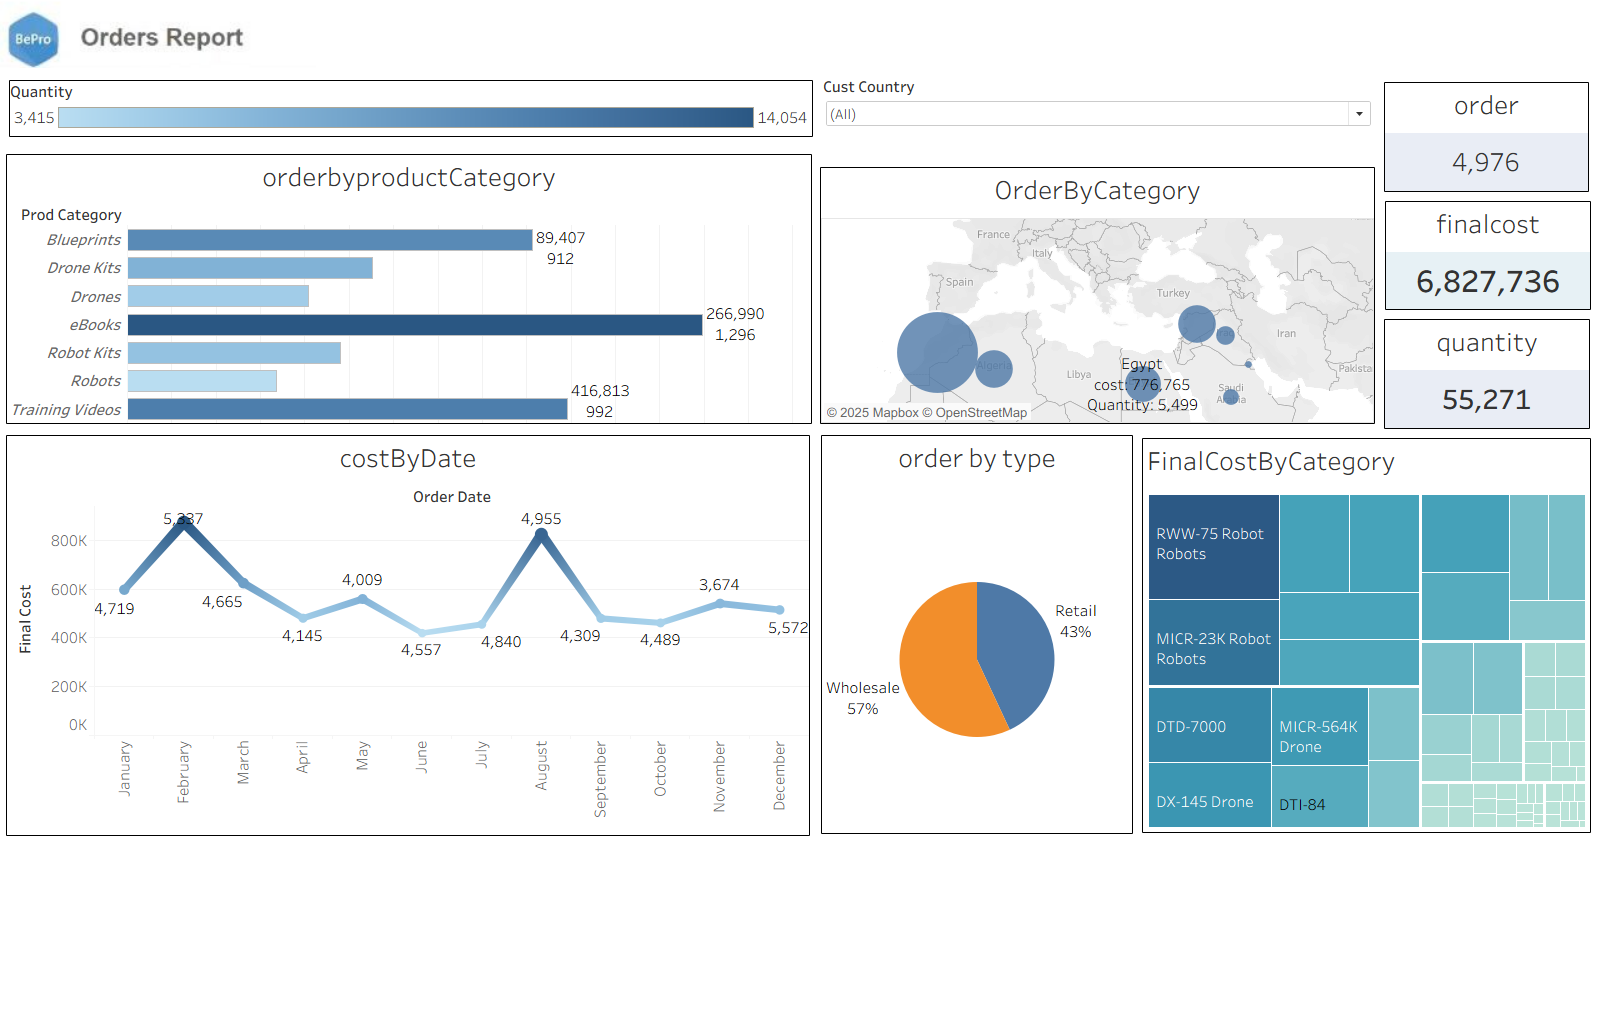

Layout of this report page (visuals, bound fields, positions):
{"tool":"tableau","page":{"name":"Dashboard 1","canvas":[1000,1000],"units":"permille","ordinal":0},"visuals":[{"type":"filter","title":"OrderByCategory","param":"[federated.1k7l23c0m9x0sa1dm8t0y1fiswnw].[none:CustCountry:nk]","box":[522,7.4,332.5,102.3]},{"type":"legend","title":"orderbyproductCategory","param":"[federated.1k7l23c0m9x0sa1dm8t0y1fiswnw].[sum:Quantity:qk]","box":[30.8,12.3,485.2,70.3]},{"type":"worksheet","title":"order","mark":"Automatic","box":[863.6,14.8,120.7,135.6]},{"type":"worksheet","title":"orderbyproductCategory","mark":"Automatic","rows":["ProdCategory"],"cols":["Sheet1_D10ECC9437FA4937B5DA6B068F532ACB"],"box":[29,103.6,486.4,332.9]},{"type":"worksheet","title":"OrderByCategory","mark":"Automatic","box":[520.2,119.6,334.9,316.9]},{"type":"worksheet","title":"finalcost","mark":"Automatic","box":[861.2,161.5,124.3,134.4]},{"type":"worksheet","title":"quantity","mark":"Automatic","box":[860.6,307,124.3,135.6]},{"type":"worksheet","title":"costByDate","mark":"Automatic","rows":["Calculation_662592138302869504"],"cols":["OrderDate"],"box":[29,450.1,485.2,494.4]},{"type":"worksheet","title":"order by type","mark":"Pie","box":[520.8,450.1,188.3,492]},{"type":"worksheet","title":"FinalCostByCategory","mark":"Automatic","box":[714.5,453.8,271,487.1]}]}

Visuals, with their boxes on the dashboard's canvas, which has no fixed pixel size, in thousandths of its width and height (x1, y1, x2, y2). These are canvas units, not pixel positions in the 1601x1034 screenshot, which may show the page scaled, cropped or inside an application window:
"OrderByCategory" filter: locate(522, 7, 854, 110)
"orderbyproductCategory" legend: locate(31, 12, 516, 83)
"order" worksheet: locate(864, 15, 984, 150)
"orderbyproductCategory" worksheet: locate(29, 104, 515, 436)
"OrderByCategory" worksheet: locate(520, 120, 855, 436)
"finalcost" worksheet: locate(861, 162, 986, 296)
"quantity" worksheet: locate(861, 307, 985, 443)
"costByDate" worksheet: locate(29, 450, 514, 944)
"order by type" worksheet (Pie marks): locate(521, 450, 709, 942)
"FinalCostByCategory" worksheet: locate(714, 454, 986, 941)
